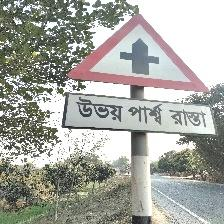Crossroad: (48, 8, 219, 151)
